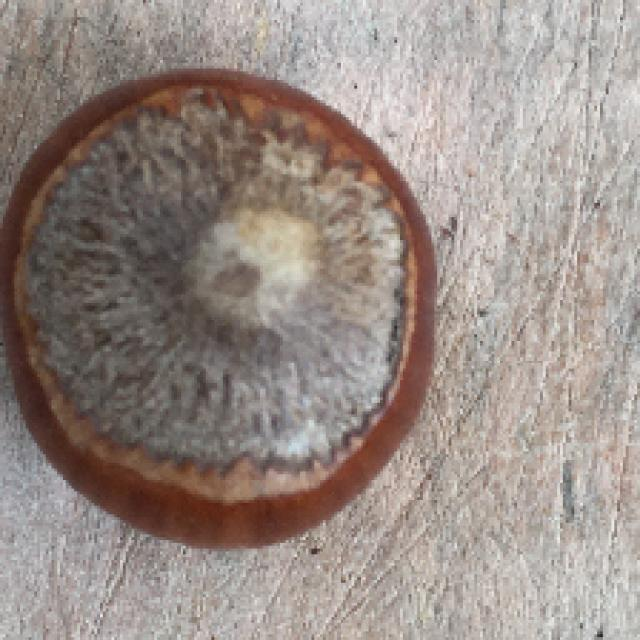damagedHazelnut: (0, 57, 443, 560)
